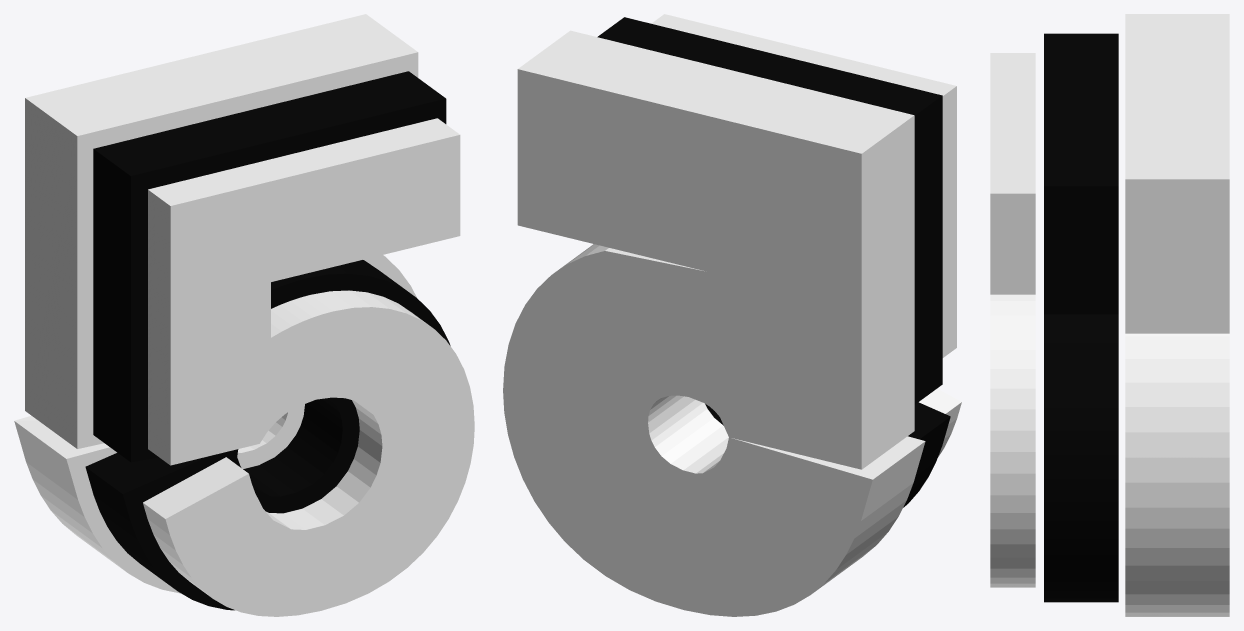
3 renders of one model, left to right at view 1: azimuth 30°, elevation 25°; view 2: azimuth 150°, elevation 25°; view 3: azimuth 270°, elevation 25°, orthographic.
Visible parts, largest first — view 1: テキスト.003_テキスト.009; view 2: テキスト.003_テキスト.009; view 3: テキスト.003_テキスト.009.
Part boxes in pixels (bbox=[...]): テキスト.003_テキスト.009: bbox=[14, 14, 474, 616]; テキスト.003_テキスト.009: bbox=[503, 14, 961, 616]; テキスト.003_テキスト.009: bbox=[990, 14, 1229, 616].
Bounding box in the file's own units: 0.5729 × 0.7408 × 0.3244.
1 material, 1 textured.
